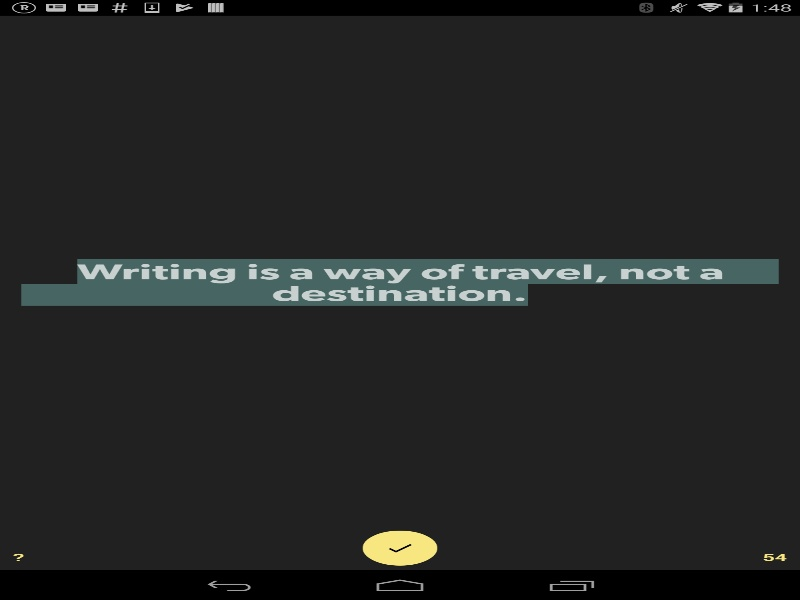Button: (362, 530, 437, 565), (0, 544, 37, 570)
Input: (21, 258, 778, 326)
